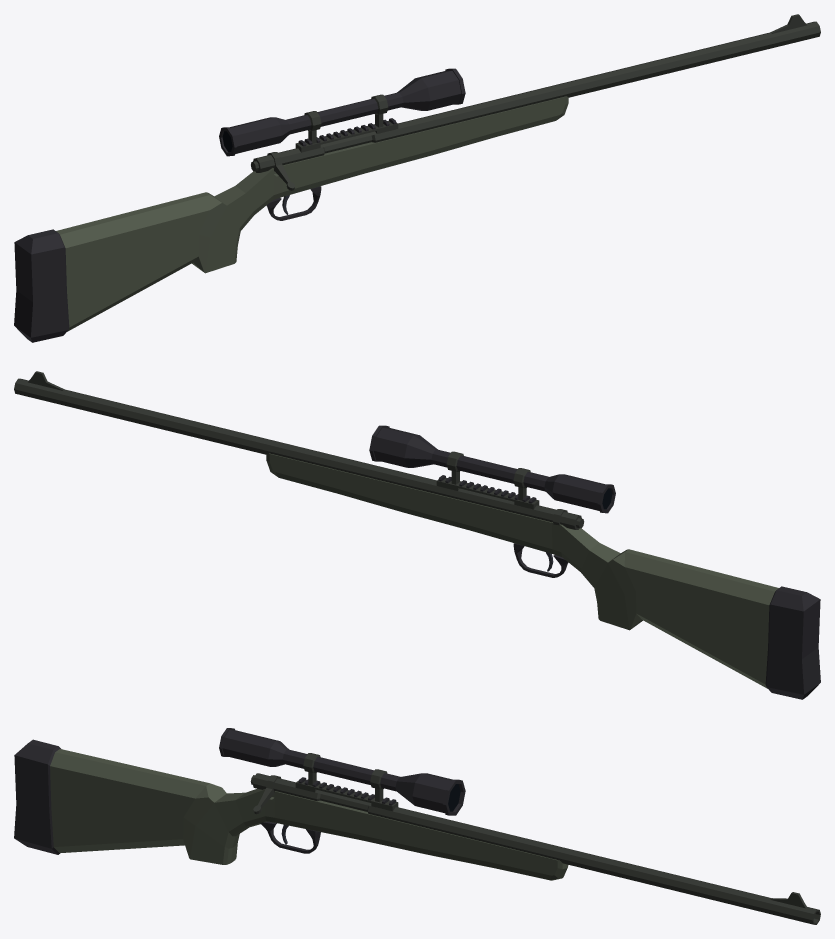
File: gun_sniper.glb
3 views of the same model, one above another, from view 1: azimuth 30°, elevation 25°; view 2: azimuth 150°, elevation 25°; view 3: azimuth 330°, elevation 25° (orthographic).
Parts seen in each view (by area): view 1: SniperRifle_1; view 2: SniperRifle_1; view 3: SniperRifle_1.
Boxes of the visible parts, bbox=[...] form: SniperRifle_1: bbox=[14, 14, 820, 342]; SniperRifle_1: bbox=[14, 371, 820, 699]; SniperRifle_1: bbox=[14, 728, 820, 924].
Bounding box in the file's own units: 7.29 × 1.48 × 0.4595.
1 material, 1 textured.
